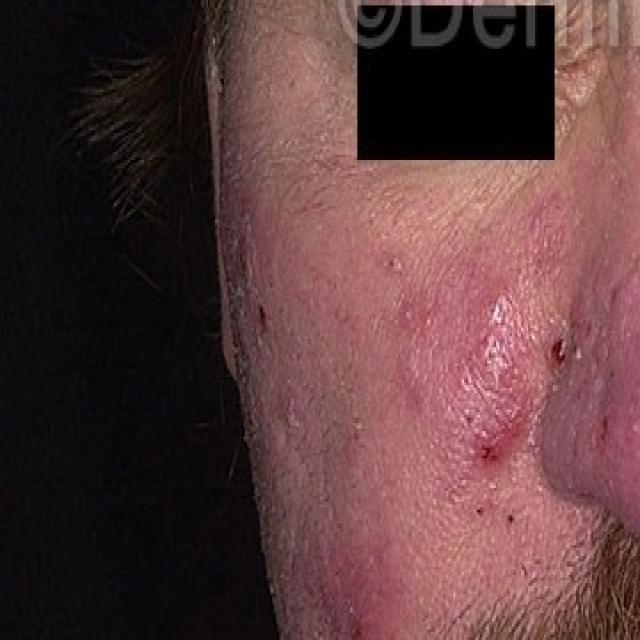Rosacea: (221, 192, 552, 628)
